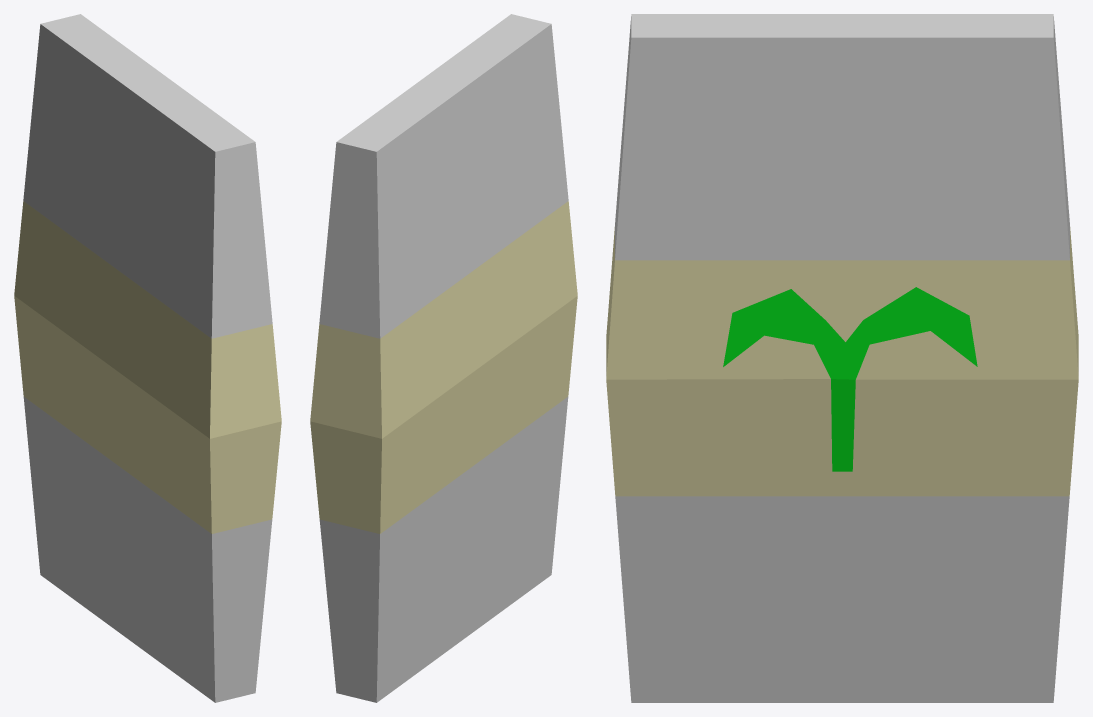
Rendered from seedPacket.fbx.
3 views of the same model, side by side, from view 1: azimuth 30°, elevation 25°; view 2: azimuth 150°, elevation 25°; view 3: azimuth 270°, elevation 25° (orthographic). The views are drawn at different scales.
Visible parts, largest first — view 1: SeedPacket; view 2: SeedPacket; view 3: SeedPacket.
Part boxes in pixels (x1,y1,x2,y2): SeedPacket: (14, 14, 281, 702); SeedPacket: (310, 14, 577, 702); SeedPacket: (606, 14, 1078, 702).
Bounding box in the file's own units: 11.22 × 82.16 × 52.89.
